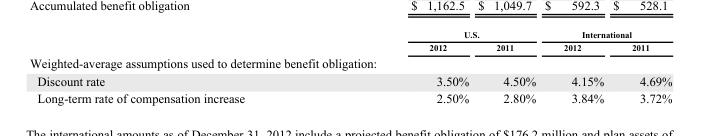table: (28, 28, 671, 105)
table column: (28, 28, 336, 105), (336, 28, 481, 105), (481, 28, 549, 105), (549, 28, 617, 105), (617, 28, 671, 105)
table column header: (28, 28, 671, 54)
table projected row header: (28, 54, 671, 71)
table row: (28, 71, 671, 89), (28, 54, 671, 71), (28, 89, 671, 105), (28, 40, 671, 54), (28, 28, 671, 40)
table spanning cell: (336, 28, 549, 40), (549, 28, 671, 40)
